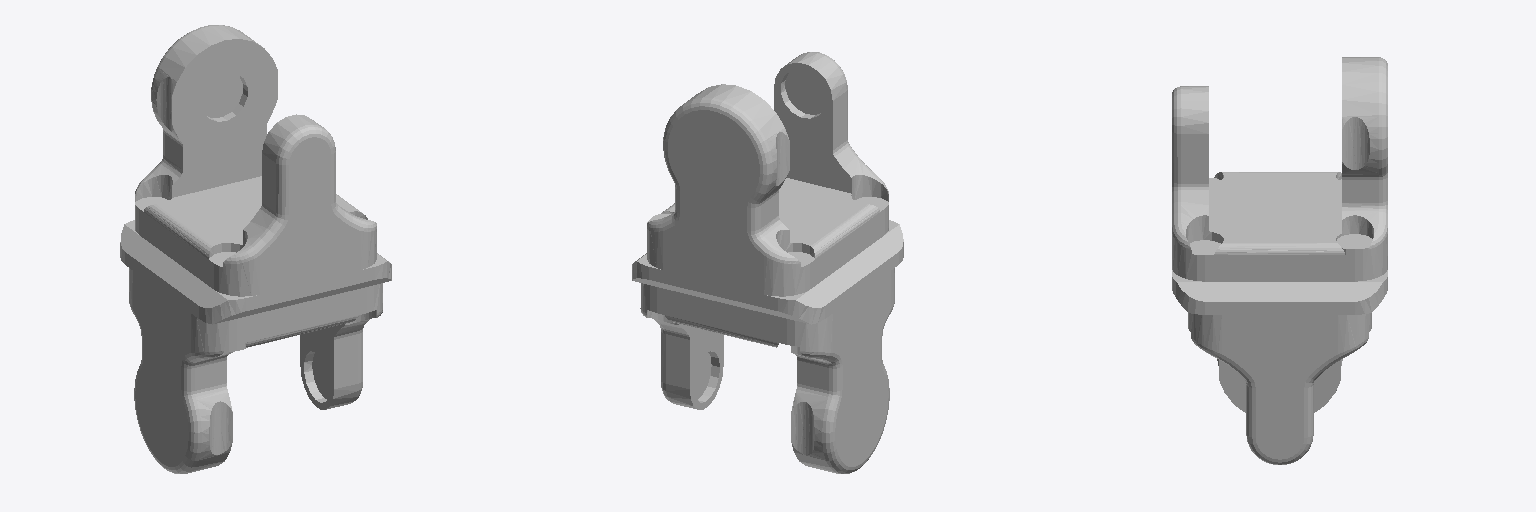
File: tesollo_right_rl_dg_5_2_visuals_rl_dg_5_2_mesh.obj
3 renders of one model, left to right at view 1: azimuth 30°, elevation 25°; view 2: azimuth 150°, elevation 25°; view 3: azimuth 270°, elevation 25°, orthographic.
Bounding box in the file's own units: 0.0224 × 0.044 × 0.0224.